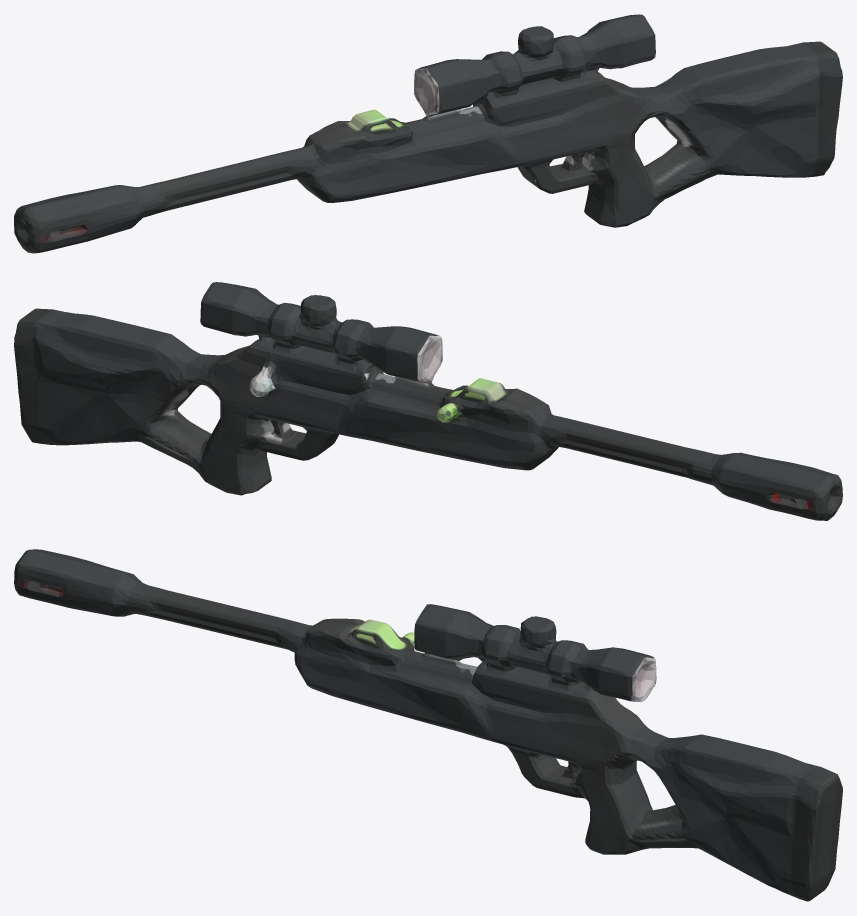
Rendered from 84d5791e-f538-4a31-9fed-6767e90fba4d.glb.
3 renders of one model, top to bottom at view 1: azimuth 30°, elevation 25°; view 2: azimuth 150°, elevation 25°; view 3: azimuth 330°, elevation 25°, orthographic.
Parts seen in each view (by area): view 1: tmpdzs1nx3v.ply; view 2: tmpdzs1nx3v.ply; view 3: tmpdzs1nx3v.ply.
Boxes of the visible parts, x1,y1,x2,y2 form: tmpdzs1nx3v.ply: (14,14,842,253); tmpdzs1nx3v.ply: (14,282,842,520); tmpdzs1nx3v.ply: (14,549,842,901).
Bounding box in the file's own units: 1.99 × 0.4851 × 0.163.
1 material, 1 textured.
